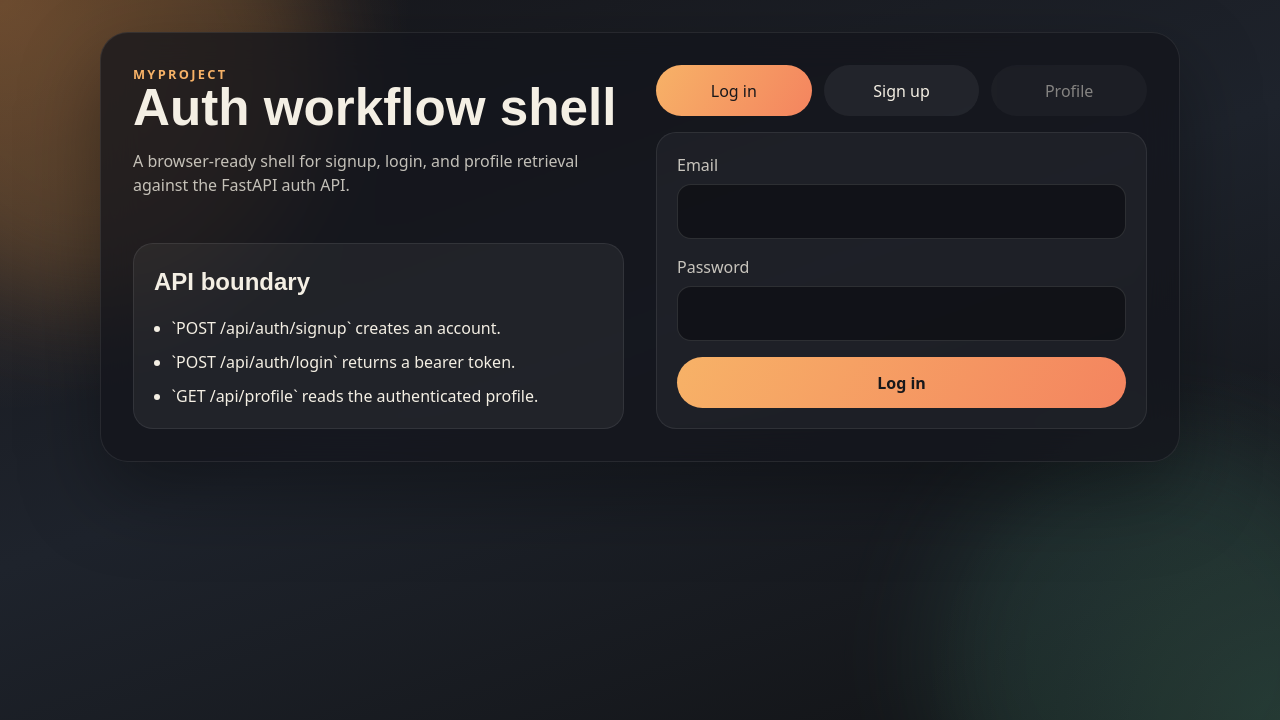
Scenario: App › switches views, signs in, and renders the profile surface
Click the button "Sign up" at [902, 91], box [824,65,979,116]
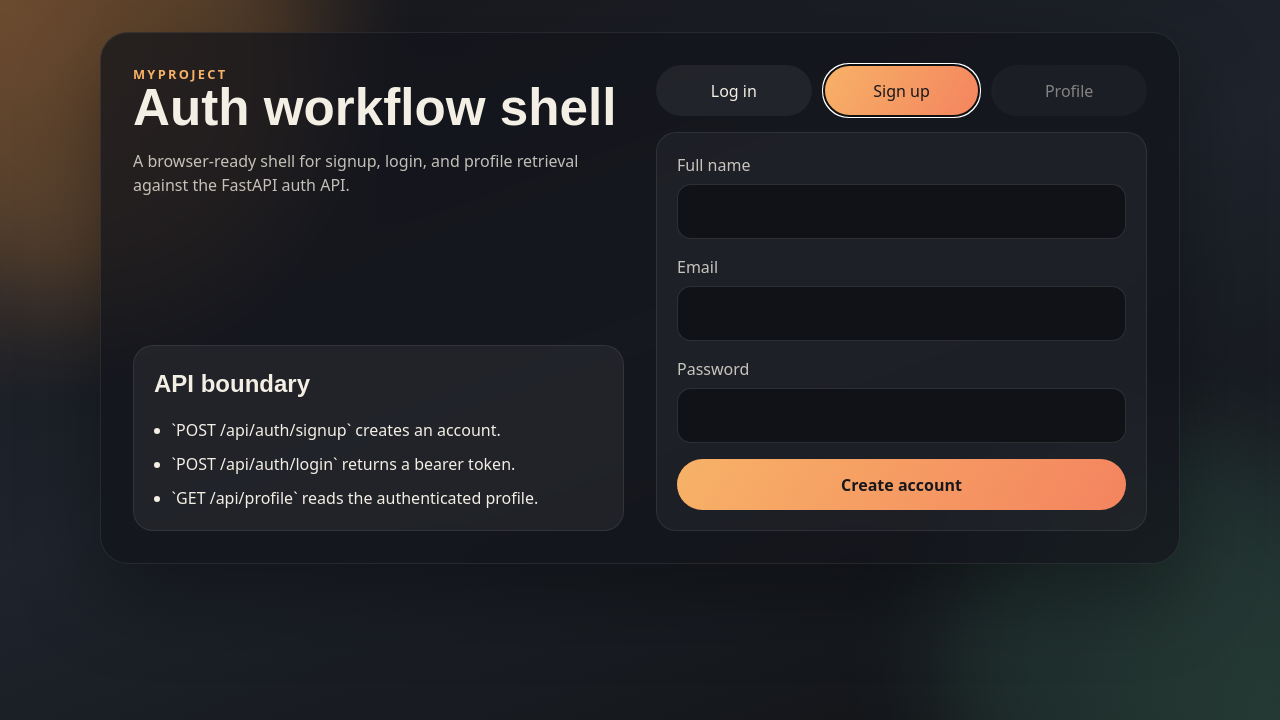
Expected: the button "Create account" is shown, [677,459,1126,510]
Click the button "Log in" at [734, 91], box [656,65,812,116]
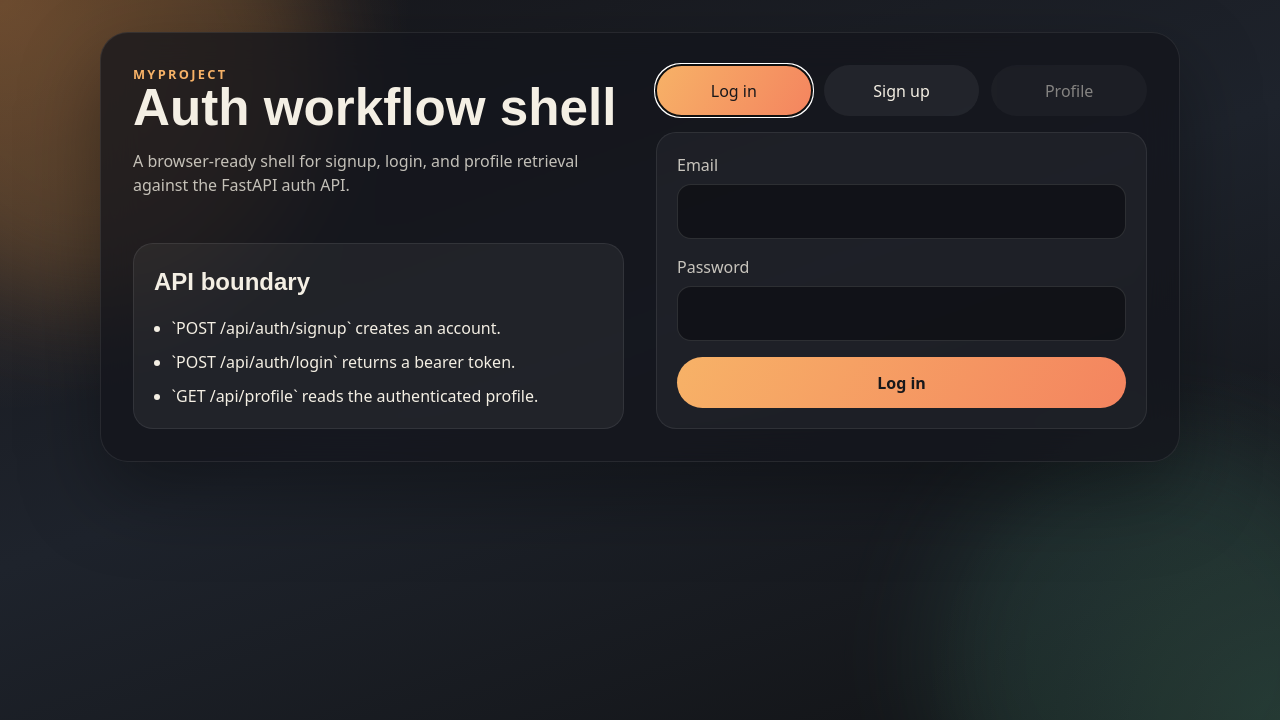
Type "person@example.com" into the field labelled "Email" at [902, 212], box [677,184,1126,239]
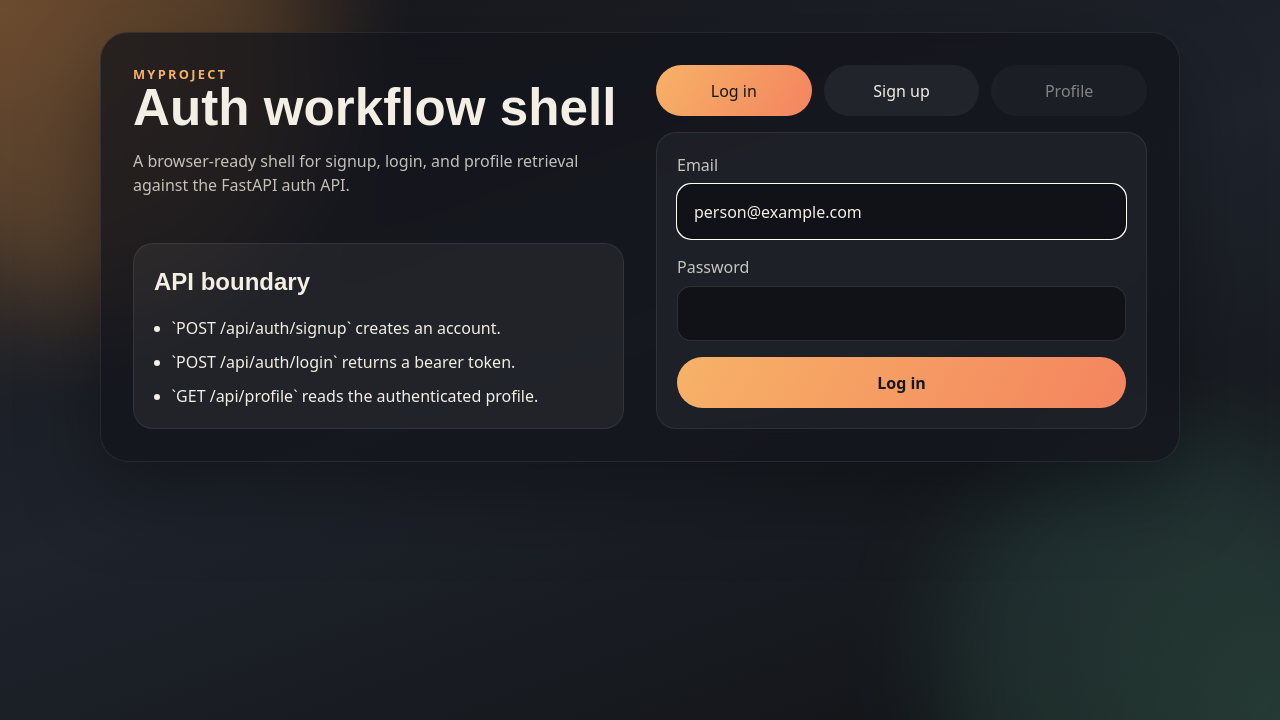
Type "password123" into the password field labelled "Password" at [902, 314], box [677,286,1126,341]
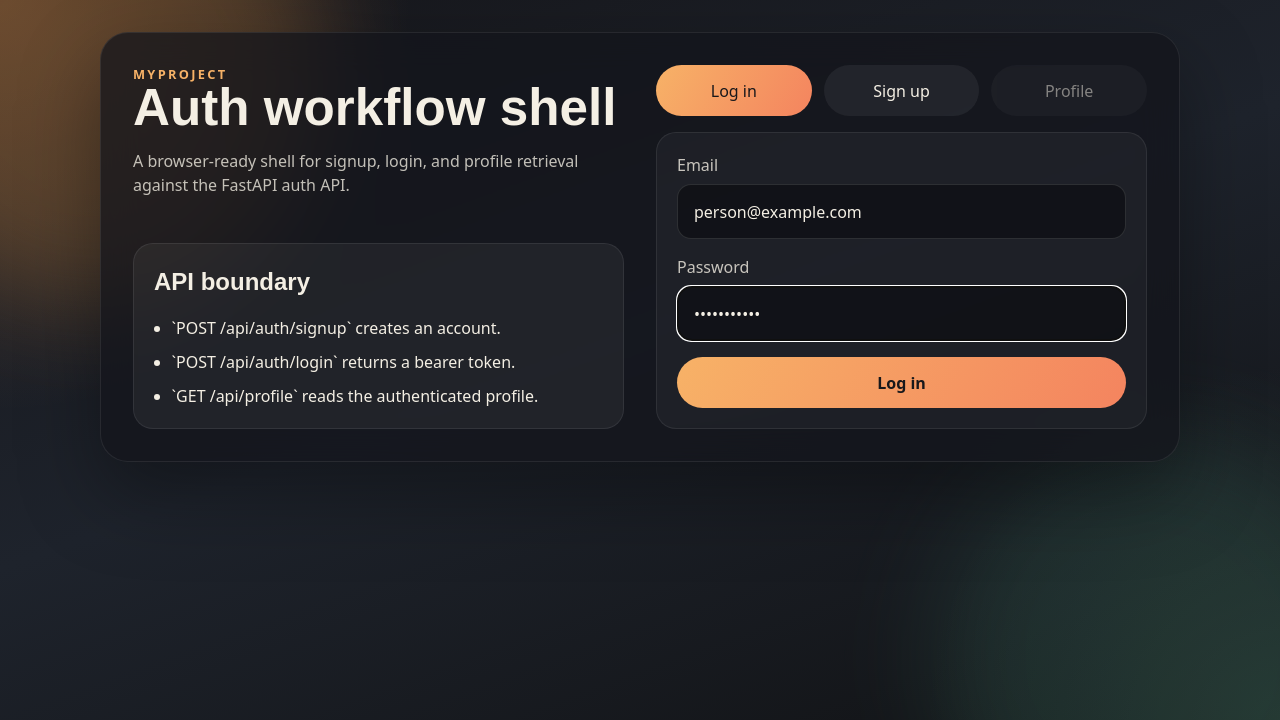
Click the button "Log in" below "Password" at [902, 383], box [677,357,1126,408]
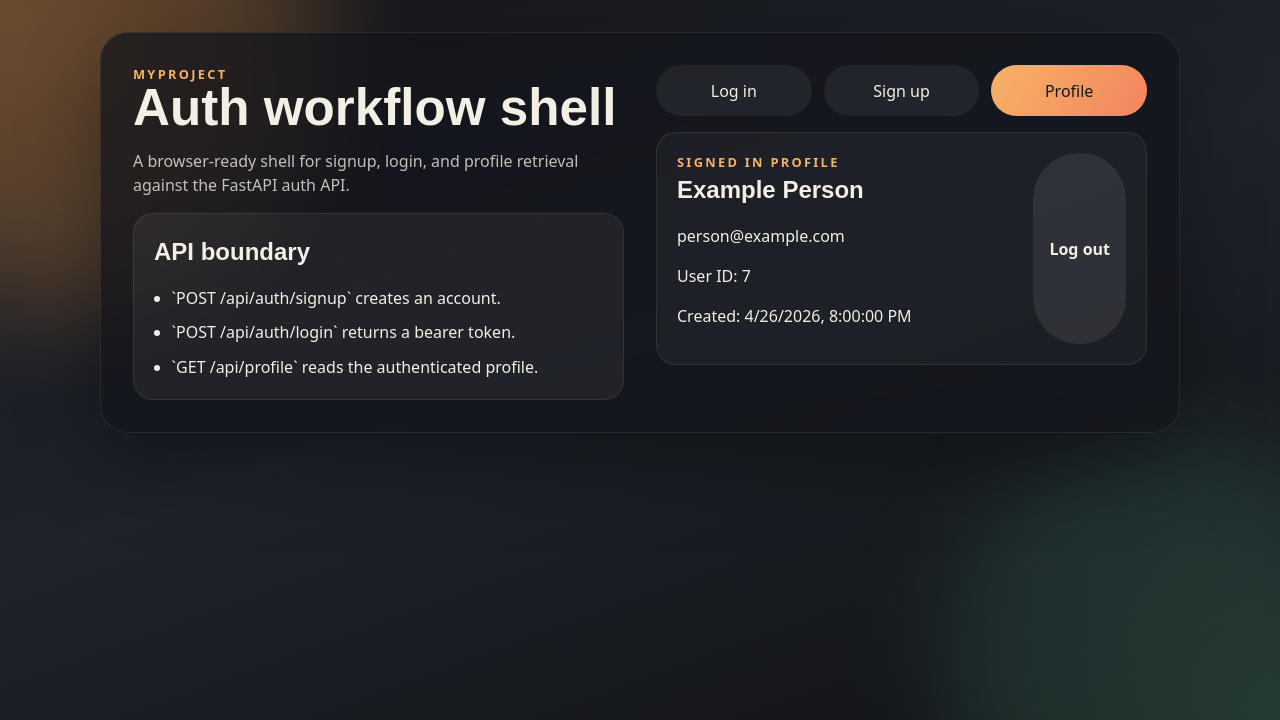
Expected: the heading "Example Person" is shown, [677,176,864,203]
Expected: the text "person@example.com" is shown, [677,225,845,247]
